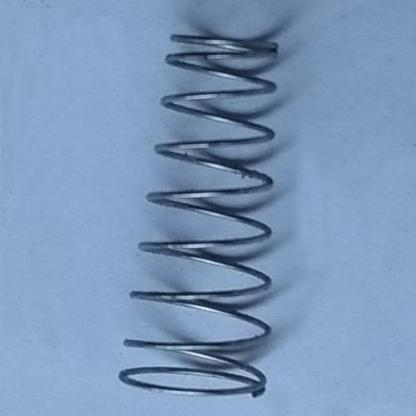FOD: (114, 31, 282, 404)
